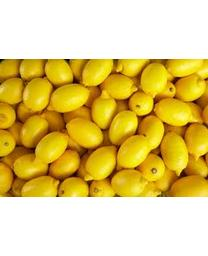lemon: (66, 117, 104, 148), (116, 134, 149, 169), (86, 144, 117, 181), (161, 131, 188, 173), (109, 108, 139, 145), (50, 86, 91, 113), (23, 78, 54, 112), (154, 98, 193, 125), (139, 60, 167, 96), (112, 169, 149, 194), (34, 133, 68, 160), (13, 154, 49, 178), (83, 60, 115, 86), (95, 91, 116, 130), (185, 122, 207, 158), (140, 153, 166, 179), (128, 91, 154, 116)
